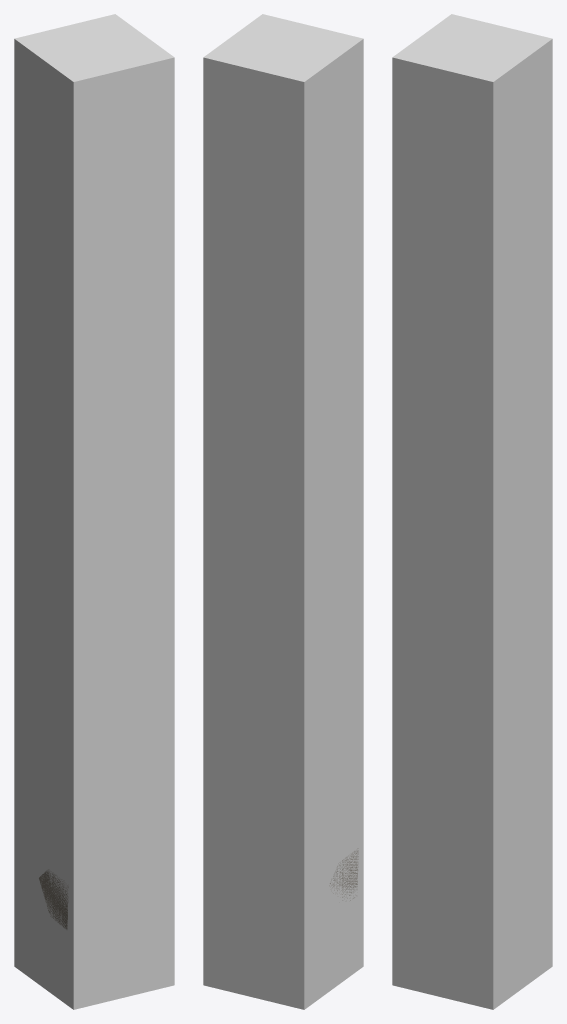
Rendered from house_corner.glb.
The picture shows the model from 3 angles, left to right: view 1: azimuth 30°, elevation 25°; view 2: azimuth 150°, elevation 25°; view 3: azimuth 330°, elevation 25°; orthographic projection.
Visible parts, largest first — view 1: COL_house_corner_static_00, house_corner_static; view 2: COL_house_corner_static_00, house_corner_static; view 3: COL_house_corner_static_00.
Boxes of the visible parts, bbox=[...] form: COL_house_corner_static_00: bbox=[14, 14, 174, 1009]; house_corner_static: bbox=[39, 869, 68, 929]; COL_house_corner_static_00: bbox=[203, 14, 363, 1009]; house_corner_static: bbox=[329, 848, 358, 900]; COL_house_corner_static_00: bbox=[392, 14, 552, 1009].
Bounding box in the file's own units: 0.3978 × 3.49 × 0.4047.
Materials: 2 (2 with a texture image).
